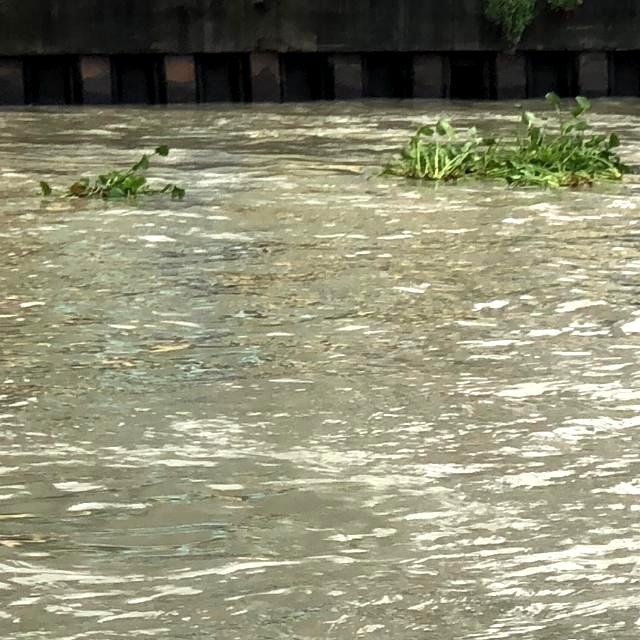water-hyacinth: (386, 97, 634, 190), (40, 146, 189, 203)
